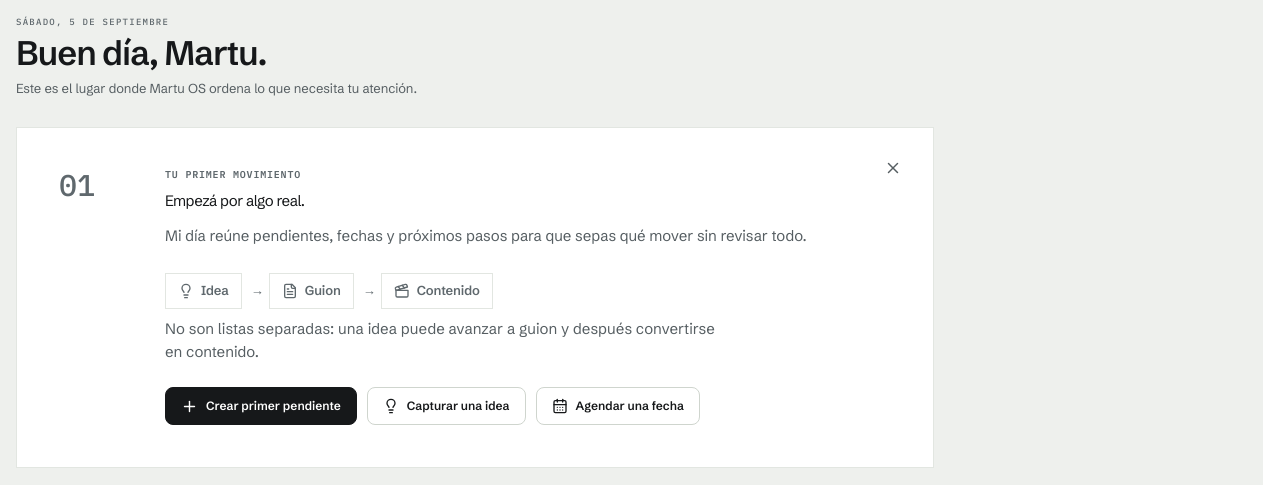
it: DayView first activation › can be dismissed without creating anything
Click the button named "Cerrar bienvenida": {"x": 893, "y": 168} [871,146,915,190]
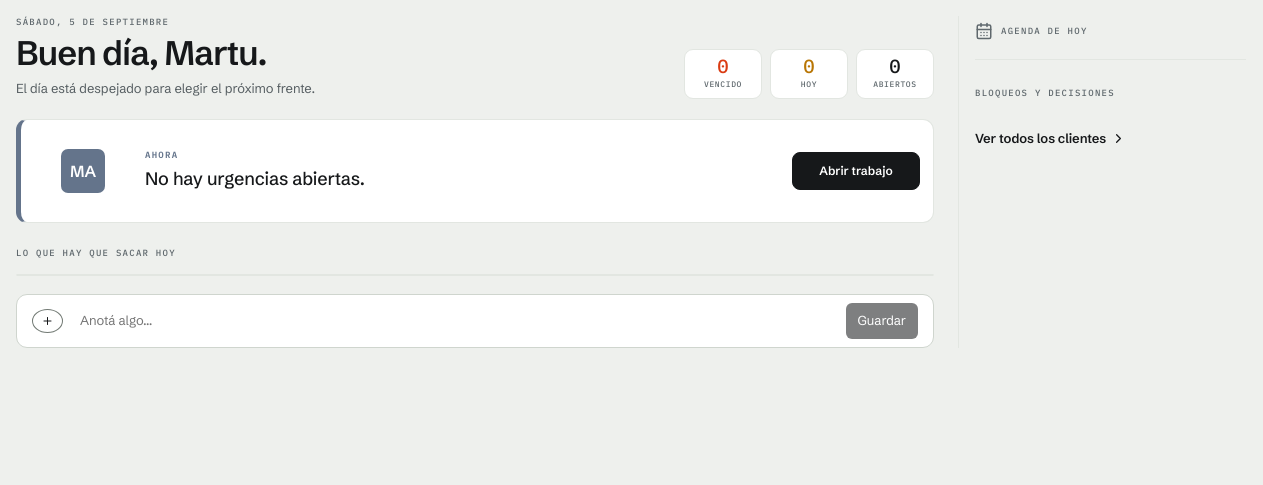
Check: the field with test id "quick-capture" showing "Anotá algo…" is shown, box [63,311,834,330]
